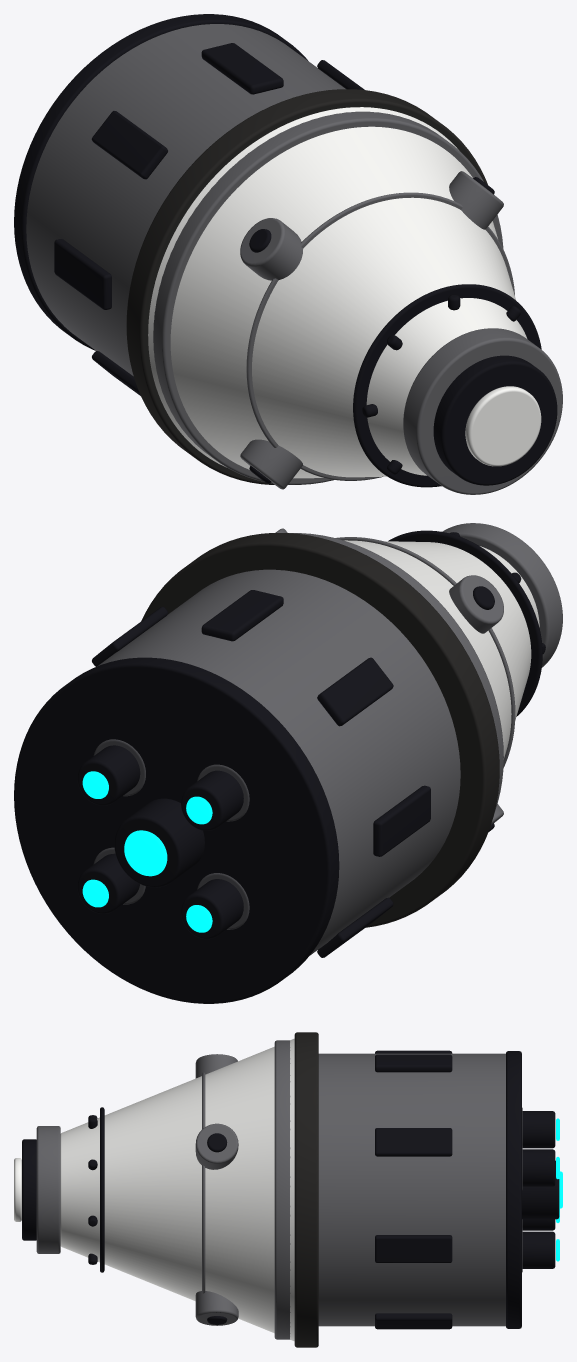
File: dragon.fbx
3 views of the same model, one above another, from view 1: azimuth 30°, elevation 25°; view 2: azimuth 150°, elevation 25°; view 3: azimuth 270°, elevation 25° (orthographic). The views are drawn at different scales.
Parts seen in each view (by area): view 1: Main tapered crew capsule, Attached cargo trunk, Black heat shield base, Lower service band, Top docking adapter base, Docking ring, Trunk lower rim, Upper black accent band, Inner docking hatch, Mid capsule seam band, Trunk black solar/thermal strip.003, Integrated side thruster pod.001 (+5 smaller); view 2: Trunk lower rim, Attached cargo trunk, Black heat shield base, Main tapered crew capsule, Central bottom engine bell, Top docking adapter base, Upper black accent band, Trunk black solar/thermal strip.003, Lower service band, Trunk black solar/thermal strip.004, Trunk black solar/thermal strip.002, Outer bottom engine bell (+15 smaller); view 3: Attached cargo trunk, Main tapered crew capsule, Black heat shield base, Lower service band, Trunk lower rim, Top docking adapter base, Trunk black solar/thermal strip.001, Trunk black solar/thermal strip, Docking ring, Trunk black solar/thermal strip.002, Central bottom engine bell, Integrated side thruster pod (+10 smaller).
Boxes of the visible parts, x1,y1,x2,y2 form: Main tapered crew capsule: (148,107,527,478); Attached cargo trunk: (26,24,345,376); Black heat shield base: (126,89,487,484); Lower service band: (153,111,503,484); Top docking adapter base: (403,328,562,494); Docking ring: (433,355,557,485); Trunk lower rim: (14,14,307,350); Upper black accent band: (353,284,541,487); Inner docking hatch: (465,386,541,466); Mid capsule seam band: (246,192,514,480); Trunk black solar/thermal strip.003: (91,111,167,179); Integrated side thruster pod.001: (240,218,302,280); Trunk lower rim: (14,657,339,1003); Attached cargo trunk: (97,569,460,955); Black heat shield base: (141,533,499,927); Main tapered crew capsule: (344,540,539,759); Central bottom engine bell: (114,798,204,887); Top docking adapter base: (442,523,562,667); Upper black accent band: (388,530,542,716); Trunk black solar/thermal strip.003: (317,657,393,726); Lower service band: (289,533,503,812); Trunk black solar/thermal strip.004: (373,785,430,856); Trunk black solar/thermal strip.002: (201,590,283,641); Outer bottom engine bell: (77,745,140,805); Attached cargo trunk: (318,1053,505,1326); Main tapered crew capsule: (60,1038,294,1341); Black heat shield base: (294,1032,318,1347); Lower service band: (274,1040,290,1339); Trunk lower rim: (506,1051,521,1328); Top docking adapter base: (36,1126,60,1253); Trunk black solar/thermal strip.001: (375,1128,452,1156); Trunk black solar/thermal strip: (375,1235,452,1262); Docking ring: (22,1139,36,1240); Trunk black solar/thermal strip.002: (375,1054,452,1072); Central bottom engine bell: (522,1160,559,1219); Integrated side thruster pod: (195,1123,238,1169).
Size of the model in its own units: 236 by 236 by 411.
